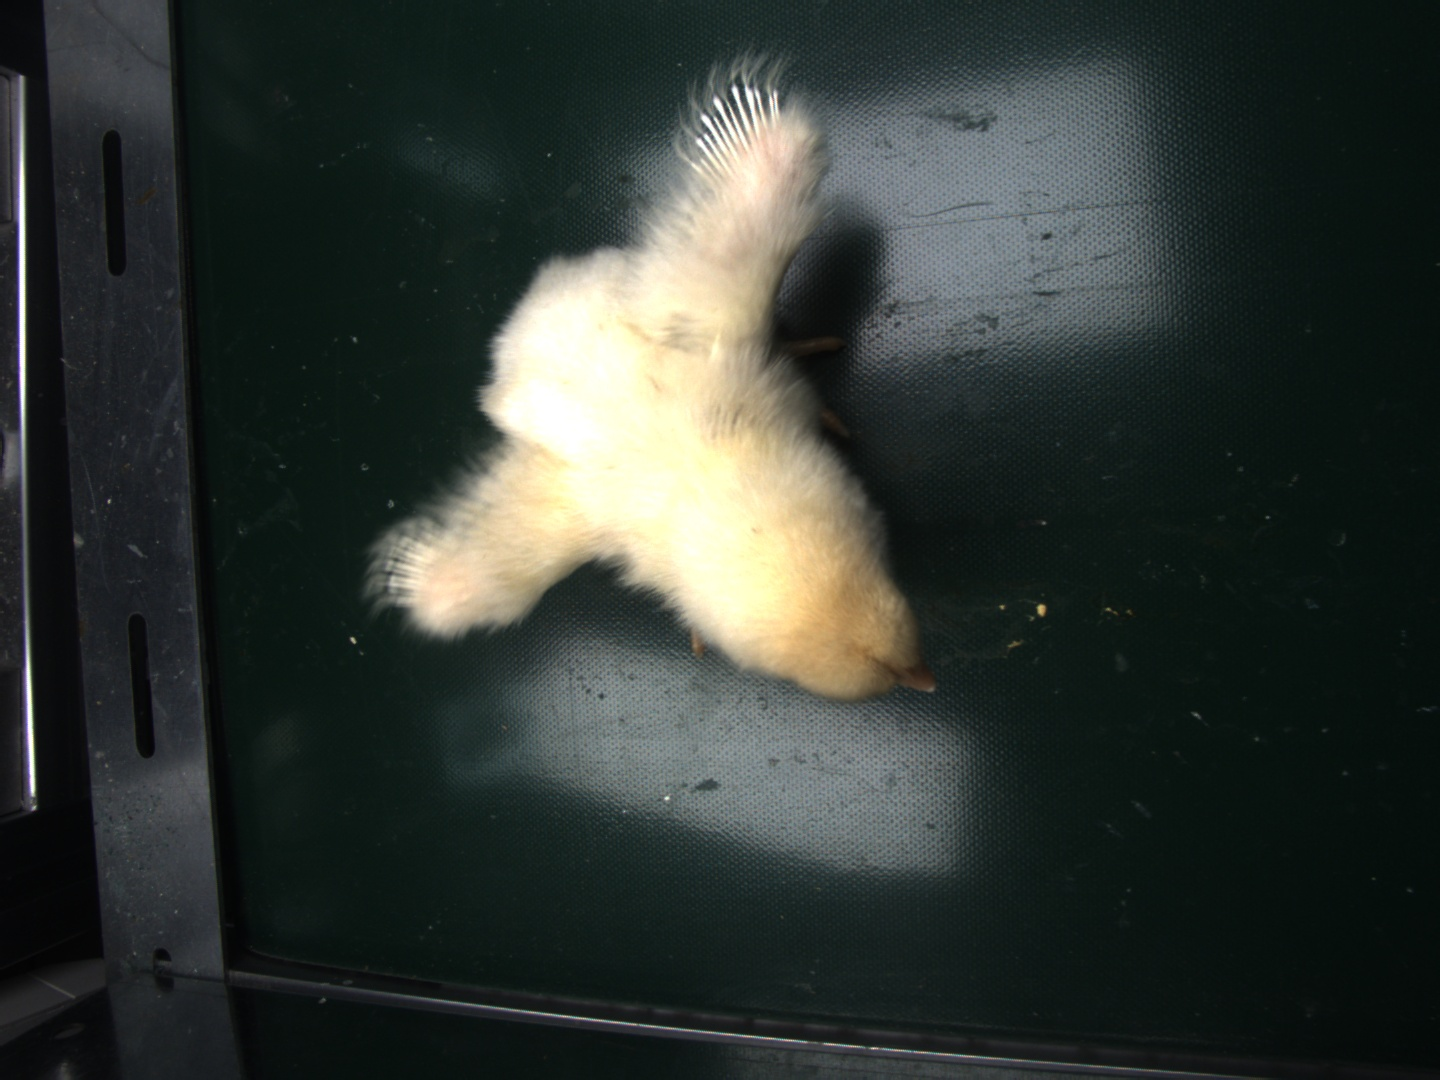male: (693, 85, 783, 178)
